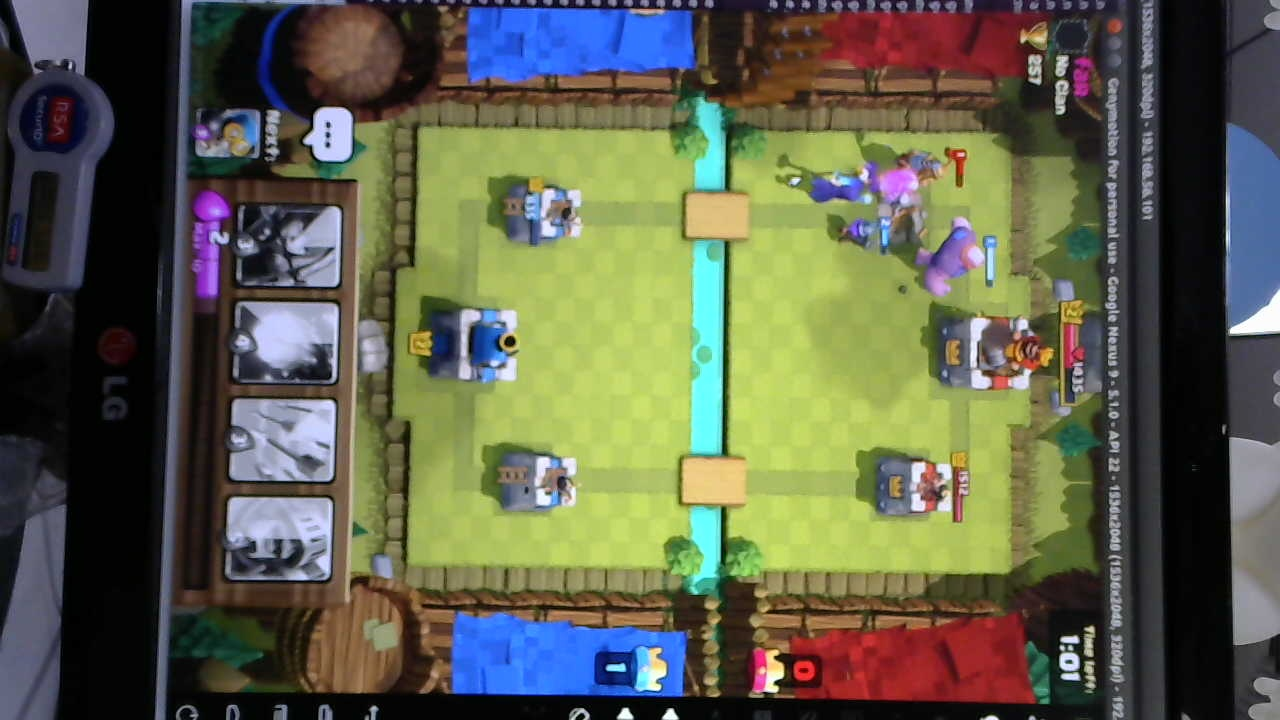arena: (496, 448, 581, 519), (502, 180, 585, 248)
earena: (871, 456, 953, 519)
eking: (934, 312, 1045, 392)
giant: (926, 214, 995, 306)
king: (430, 301, 524, 382)
musketeer: (833, 217, 881, 253)
prince: (890, 148, 957, 184)
witch: (807, 170, 876, 208)
